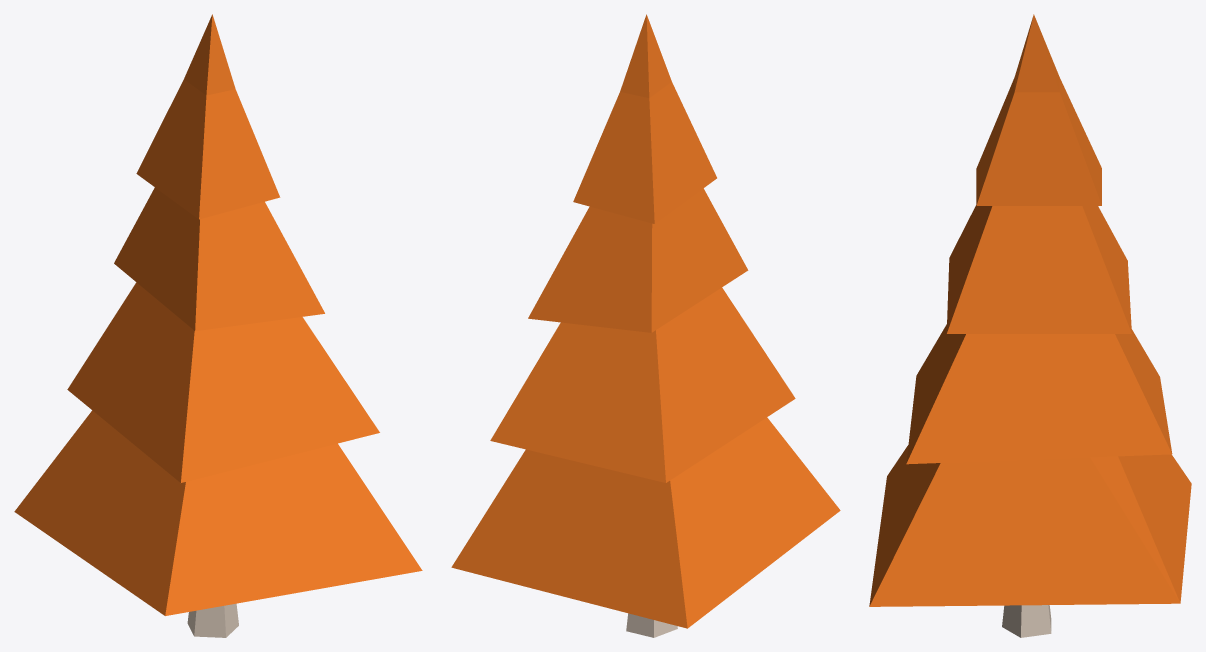
File: tree-conifer_orange.glb
3 views of the same model, side by side, from view 1: azimuth 30°, elevation 25°; view 2: azimuth 150°, elevation 25°; view 3: azimuth 270°, elevation 25° (orthographic).
Visible parts, largest first — view 1: tree-conifer_orange; view 2: tree-conifer_orange; view 3: tree-conifer_orange.
Boxes of the visible parts, x1=… form: tree-conifer_orange: x1=14, y1=14, x2=422, y2=637; tree-conifer_orange: x1=451, y1=14, x2=840, y2=637; tree-conifer_orange: x1=869, y1=14, x2=1191, y2=637.
Bounding box in the file's own units: 2.44 × 5.74 × 2.73.
1 material, 1 textured.
